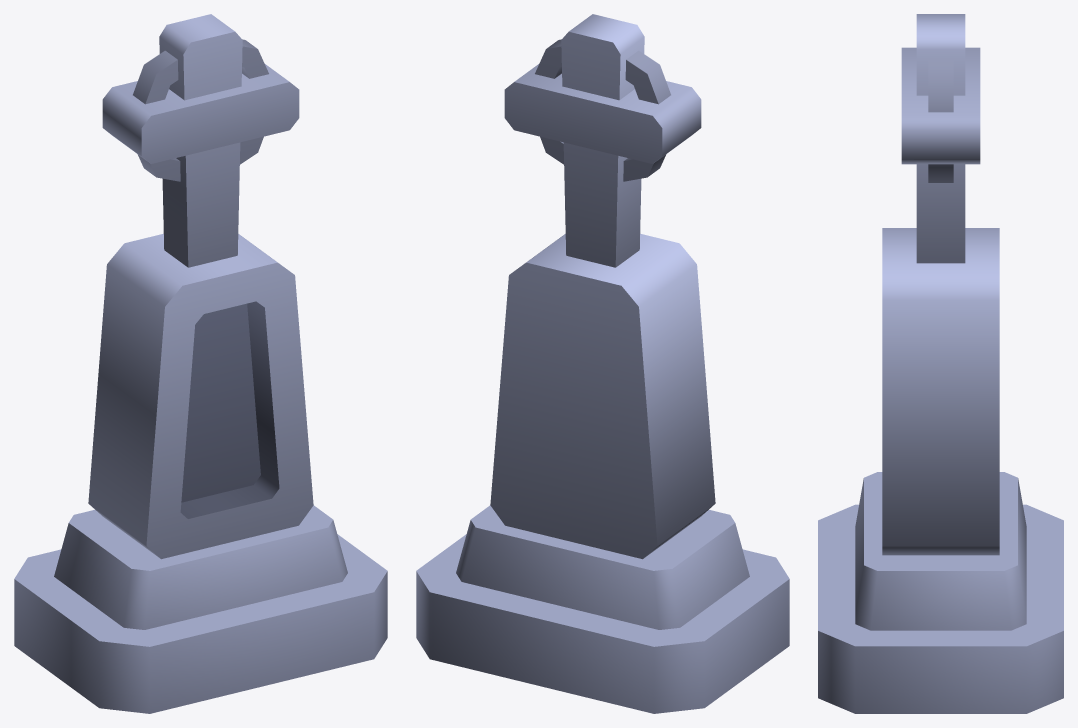
The model's file is gravestone-cross.glb.
3 renders of one model, left to right at view 1: azimuth 30°, elevation 25°; view 2: azimuth 150°, elevation 25°; view 3: azimuth 270°, elevation 25°, orthographic.
Parts seen in each view (by area): view 1: gravestone-cross; view 2: gravestone-cross; view 3: gravestone-cross.
Boxes of the visible parts, left/top/right/bottom form: gravestone-cross: left=14, top=14, right=387, bottom=713; gravestone-cross: left=416, top=14, right=789, bottom=713; gravestone-cross: left=818, top=14, right=1063, bottom=713.
Size of the model in its own units: 9 by 18.3 by 6.6.
1 material, 1 textured.
